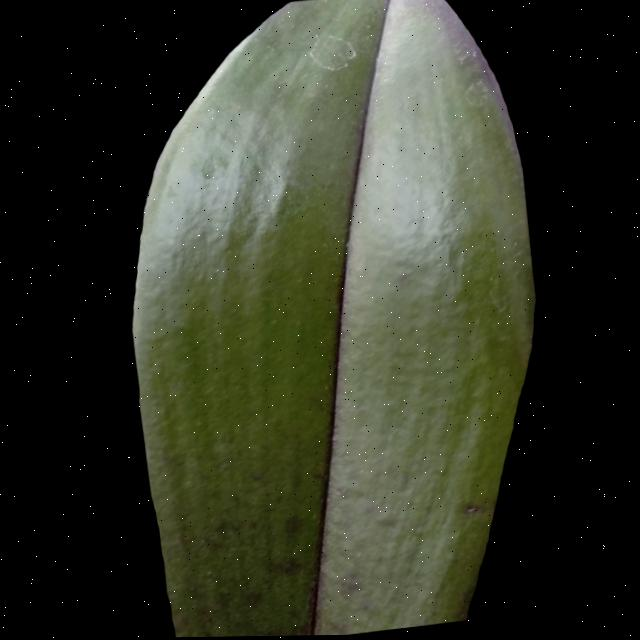mite: (171, 496, 320, 638), (371, 498, 485, 533), (259, 509, 312, 583), (304, 26, 359, 77), (195, 149, 232, 183), (265, 552, 305, 582), (460, 77, 491, 112), (235, 584, 268, 615), (280, 512, 303, 539), (241, 588, 264, 611), (373, 513, 397, 531), (462, 503, 482, 519)
spots: (94, 0, 573, 638)
